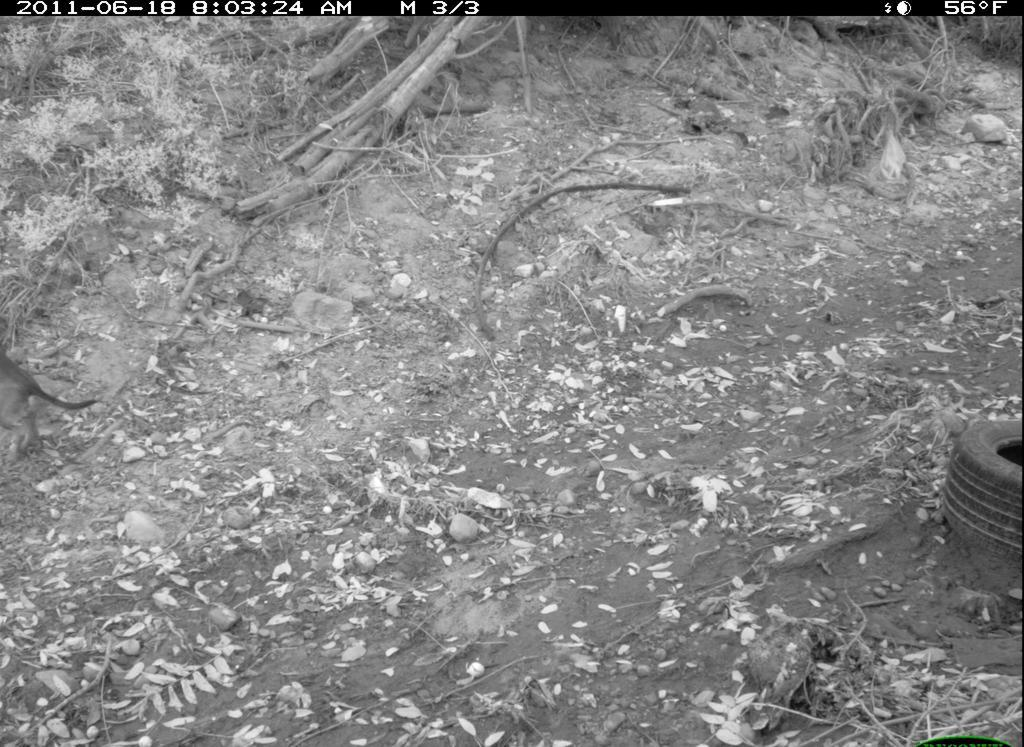dog: (1, 349, 103, 481)
